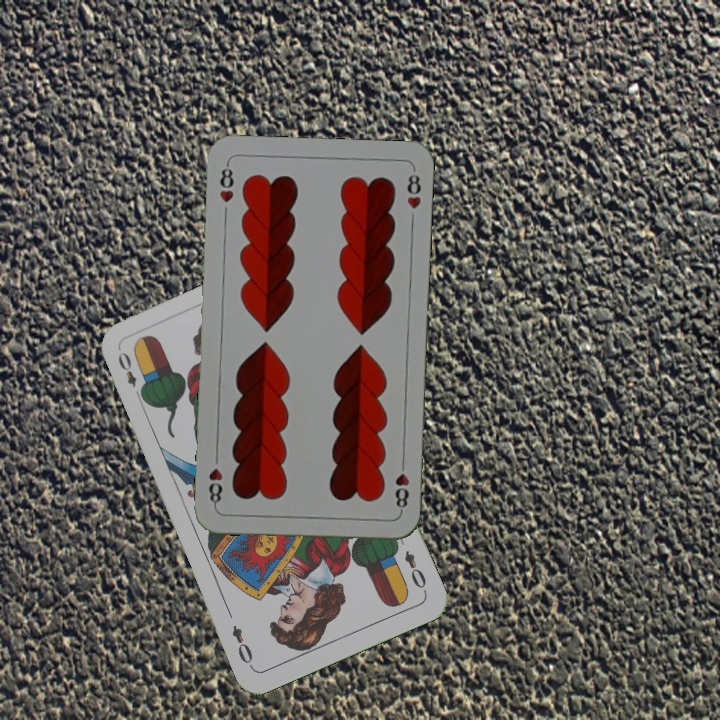EO: (114, 347, 146, 403), (400, 546, 430, 596)
H8: (391, 456, 412, 515), (215, 159, 237, 205)
